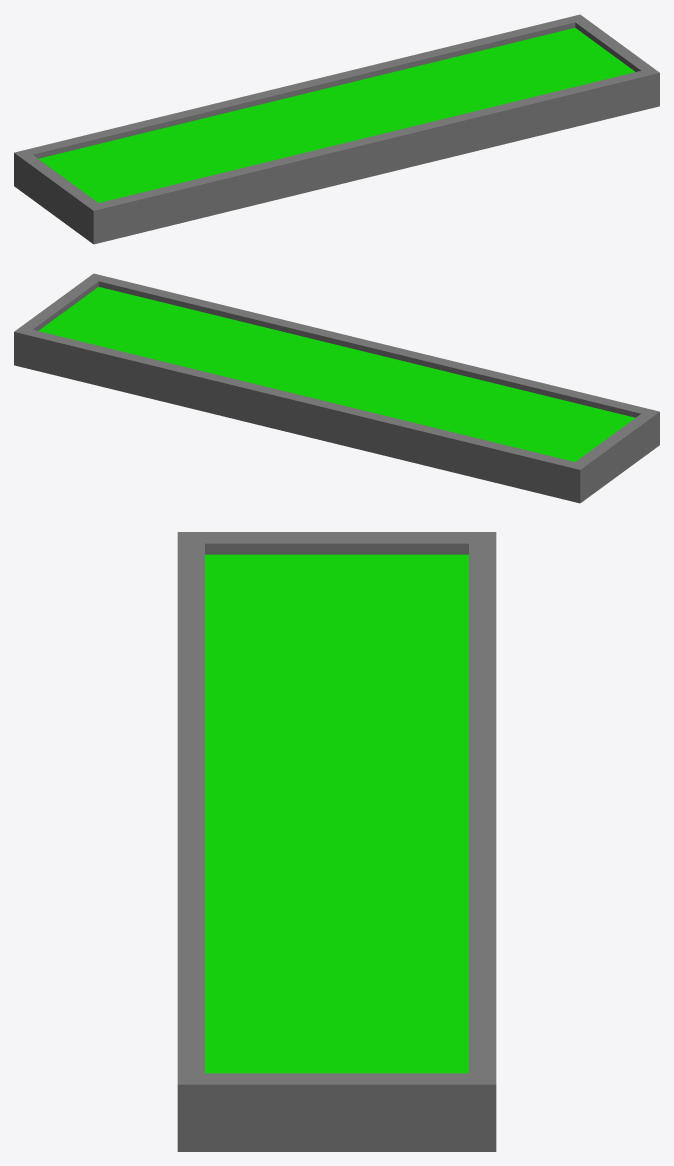
File: LuzRecta.fbx
3 views of the same model, one above another, from view 1: azimuth 30°, elevation 25°; view 2: azimuth 150°, elevation 25°; view 3: azimuth 270°, elevation 25° (orthographic). The views are drawn at different scales.
Parts seen in each view (by area): view 1: LuzRecta; view 2: LuzRecta; view 3: LuzRecta.
Boxes of the visible parts, <box> form: LuzRecta: <box>14,14,659,244</box>; LuzRecta: <box>14,273,659,503</box>; LuzRecta: <box>177,532,496,1151</box>.
Size of the model in its own units: 1079 by 61.01 by 263.
